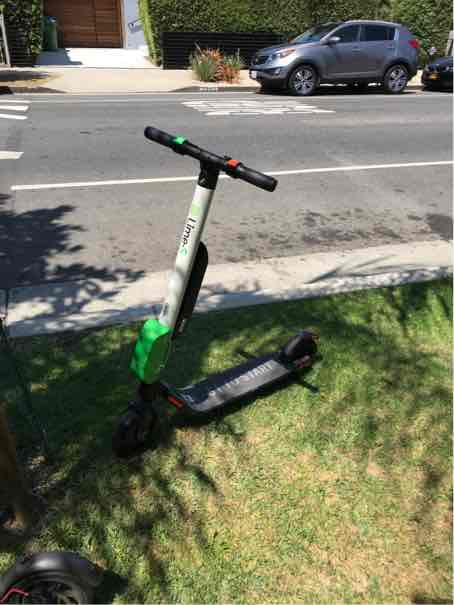scooter: (111, 118, 325, 463)
